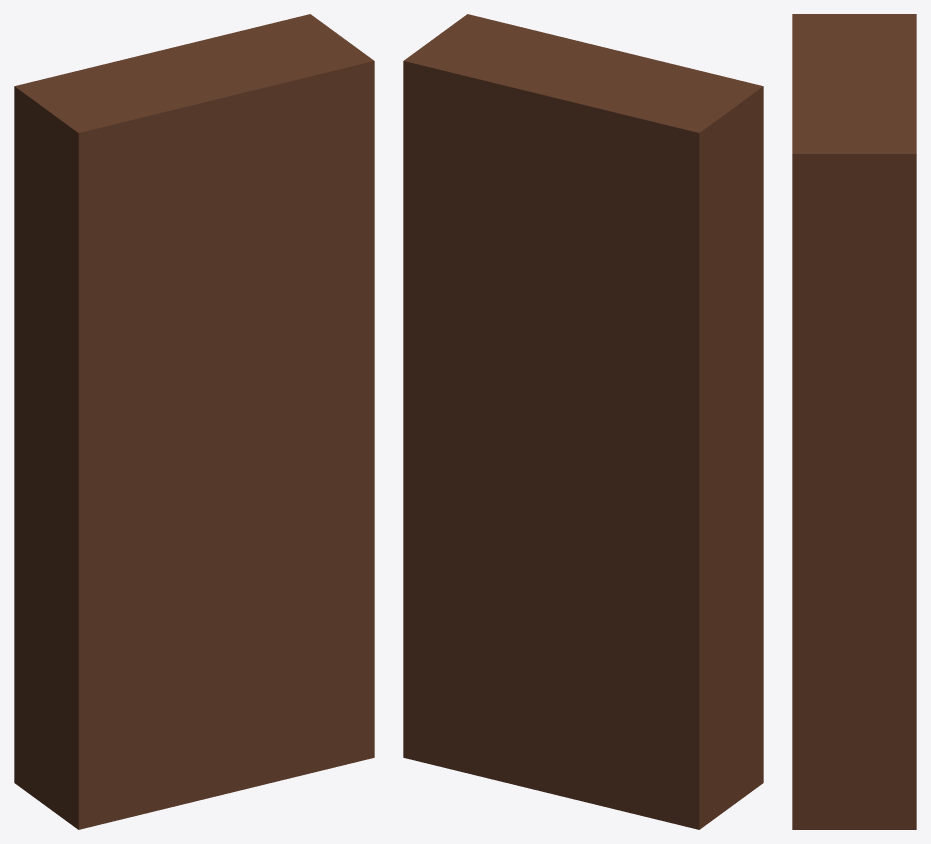
File: bookshelf.glb
3 renders of one model, left to right at view 1: azimuth 30°, elevation 25°; view 2: azimuth 150°, elevation 25°; view 3: azimuth 270°, elevation 25°, orthographic. The views are drawn at different scales.
Size of the model in its own units: 80 by 180 by 30.
